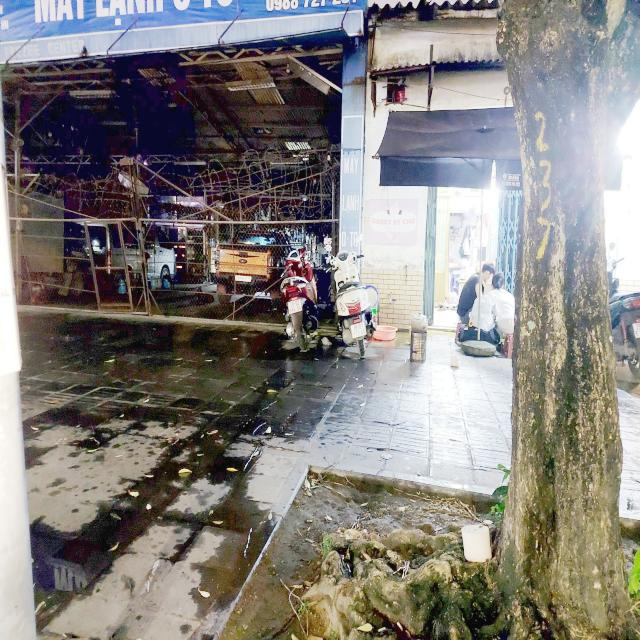license_plate: (352, 322, 368, 339), (290, 299, 303, 316), (236, 275, 253, 283)
